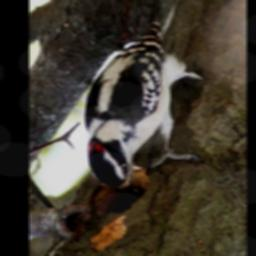Woodpecker: (85, 10, 203, 196)
